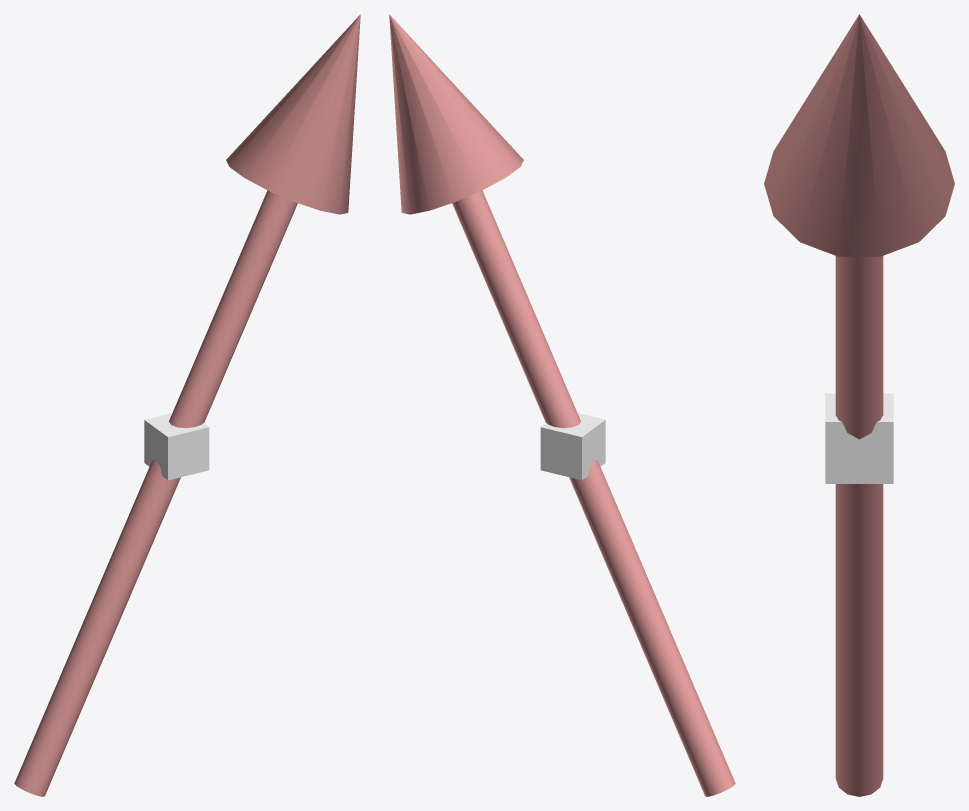
File: vector.glb
3 views of the same model, side by side, from view 1: azimuth 30°, elevation 25°; view 2: azimuth 150°, elevation 25°; view 3: azimuth 270°, elevation 25° (orthographic). The views are drawn at different scales.
Parts seen in each view (by area): view 1: vector, vector_tail; view 2: vector, vector_tail; view 3: vector, vector_tail.
Boxes of the visible parts, x1,y1,x2,y2 form: vector: [14, 14, 360, 796]; vector_tail: [144, 413, 209, 480]; vector: [389, 14, 735, 796]; vector_tail: [540, 413, 605, 480]; vector: [764, 14, 954, 796]; vector_tail: [825, 393, 893, 483].
Bounding box in the file's own units: 0.9024 × 1.76 × 0.3028.
